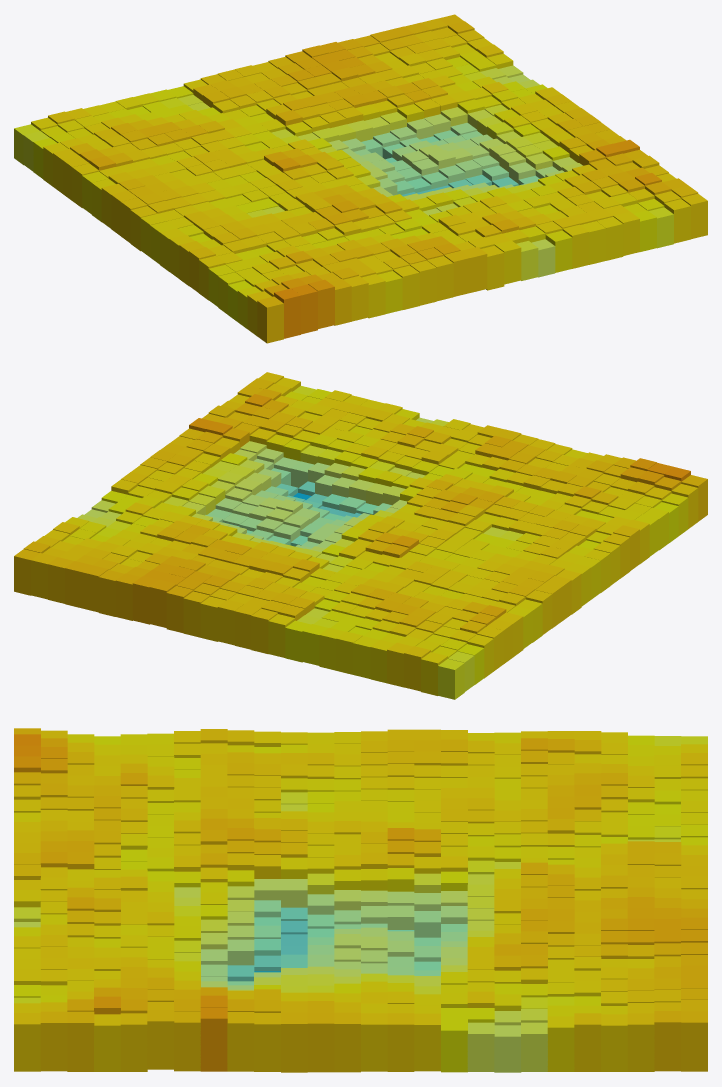
File: population.glb
3 renders of one model, top to bottom at view 1: azimuth 30°, elevation 25°; view 2: azimuth 150°, elevation 25°; view 3: azimuth 270°, elevation 25°, orthographic. The views are drawn at different scales.
Visible parts, largest first — view 1: population; view 2: population; view 3: population.
Part boxes in pixels (box(x1,y1,x2,y2)): population: box(14, 14, 707, 343); population: box(14, 372, 707, 699); population: box(14, 728, 707, 1072).
Bounding box in the file's own units: 2600 × 232 × 2584.
